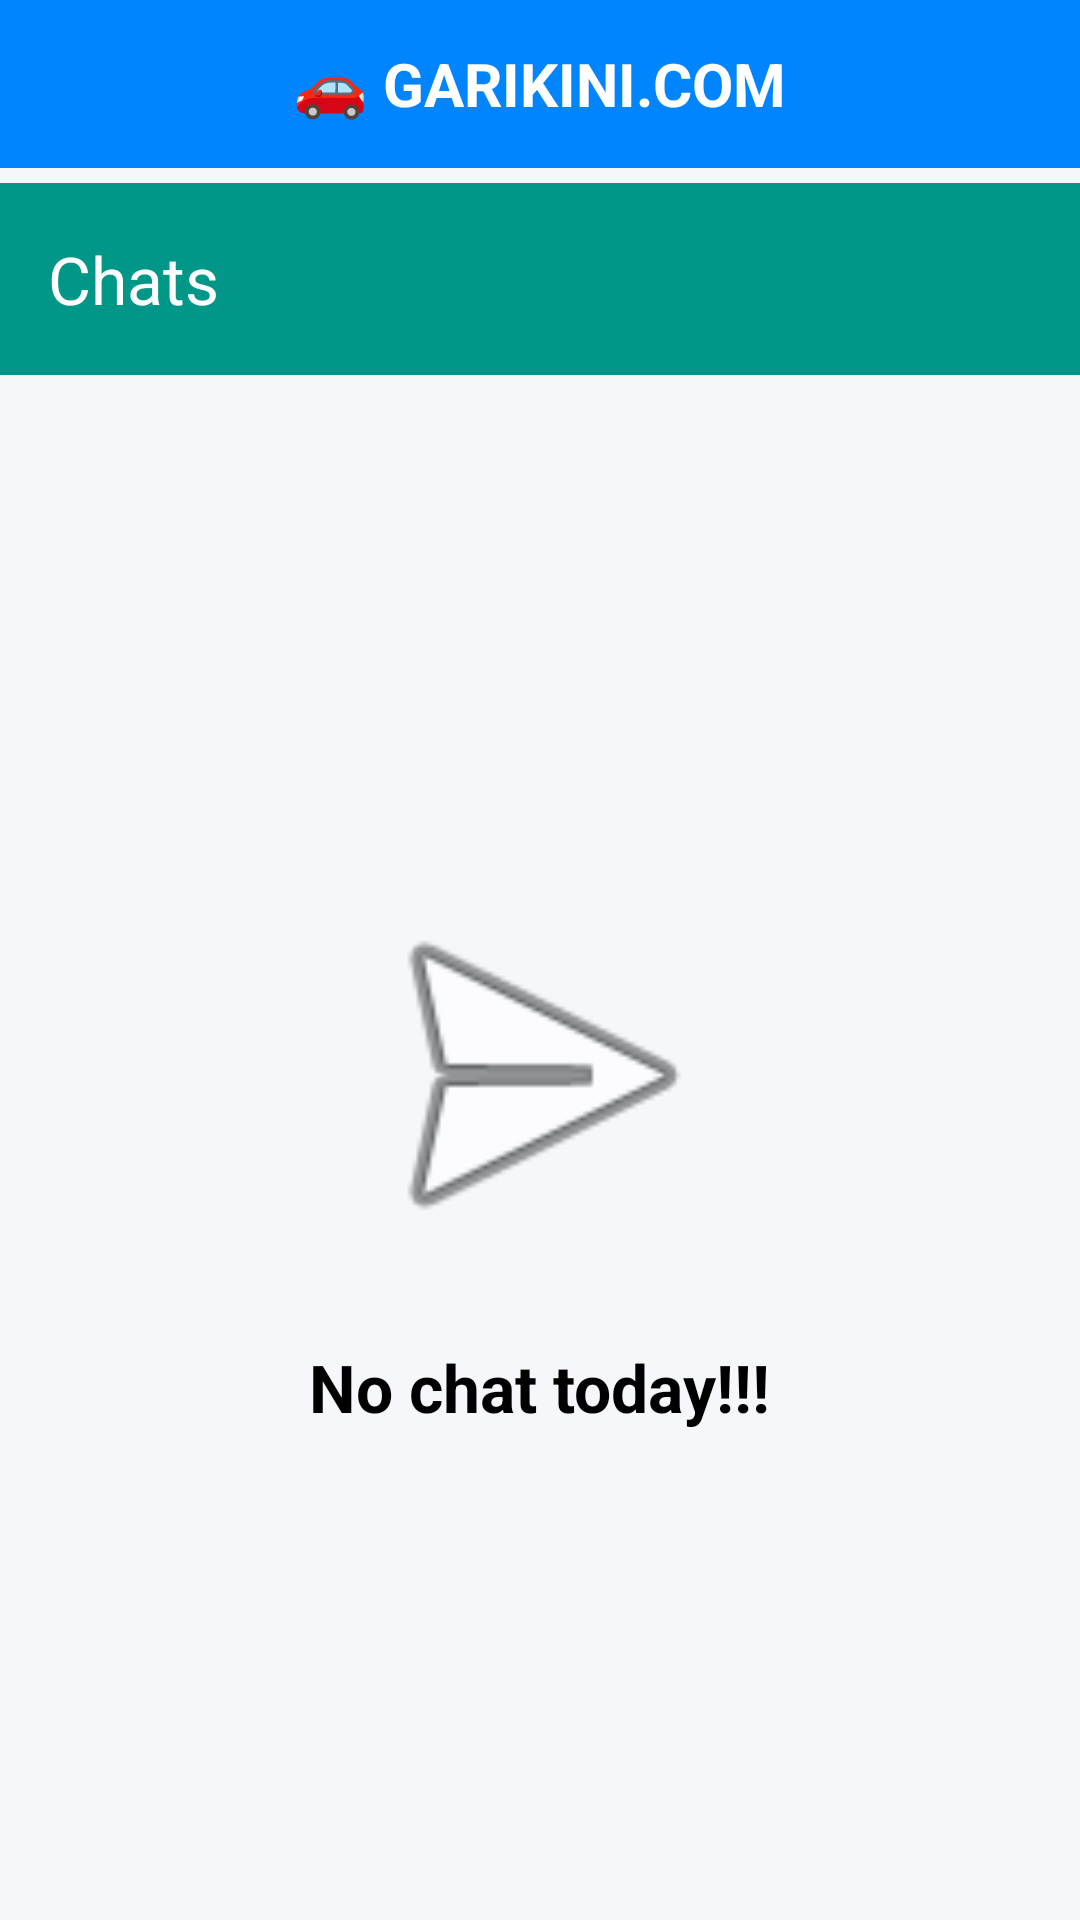

Icons on this 1080w x 1920h Android screen, each with its box as [left=x1, top=y1, right=x2, bottom=y2]:
send: [left=409, top=942, right=679, bottom=1209]
